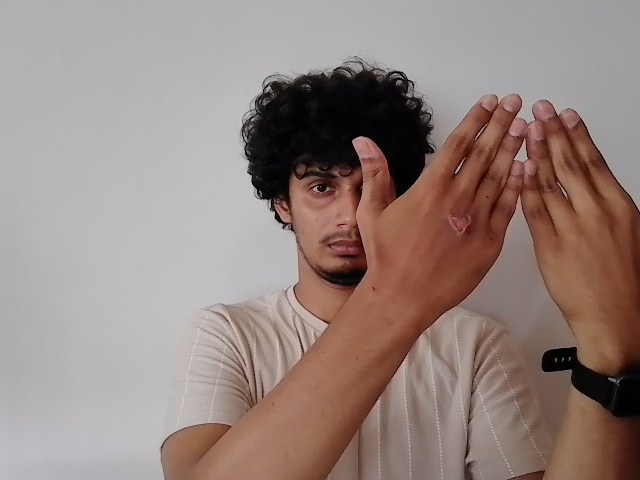thankyou: (345, 88, 640, 330)
